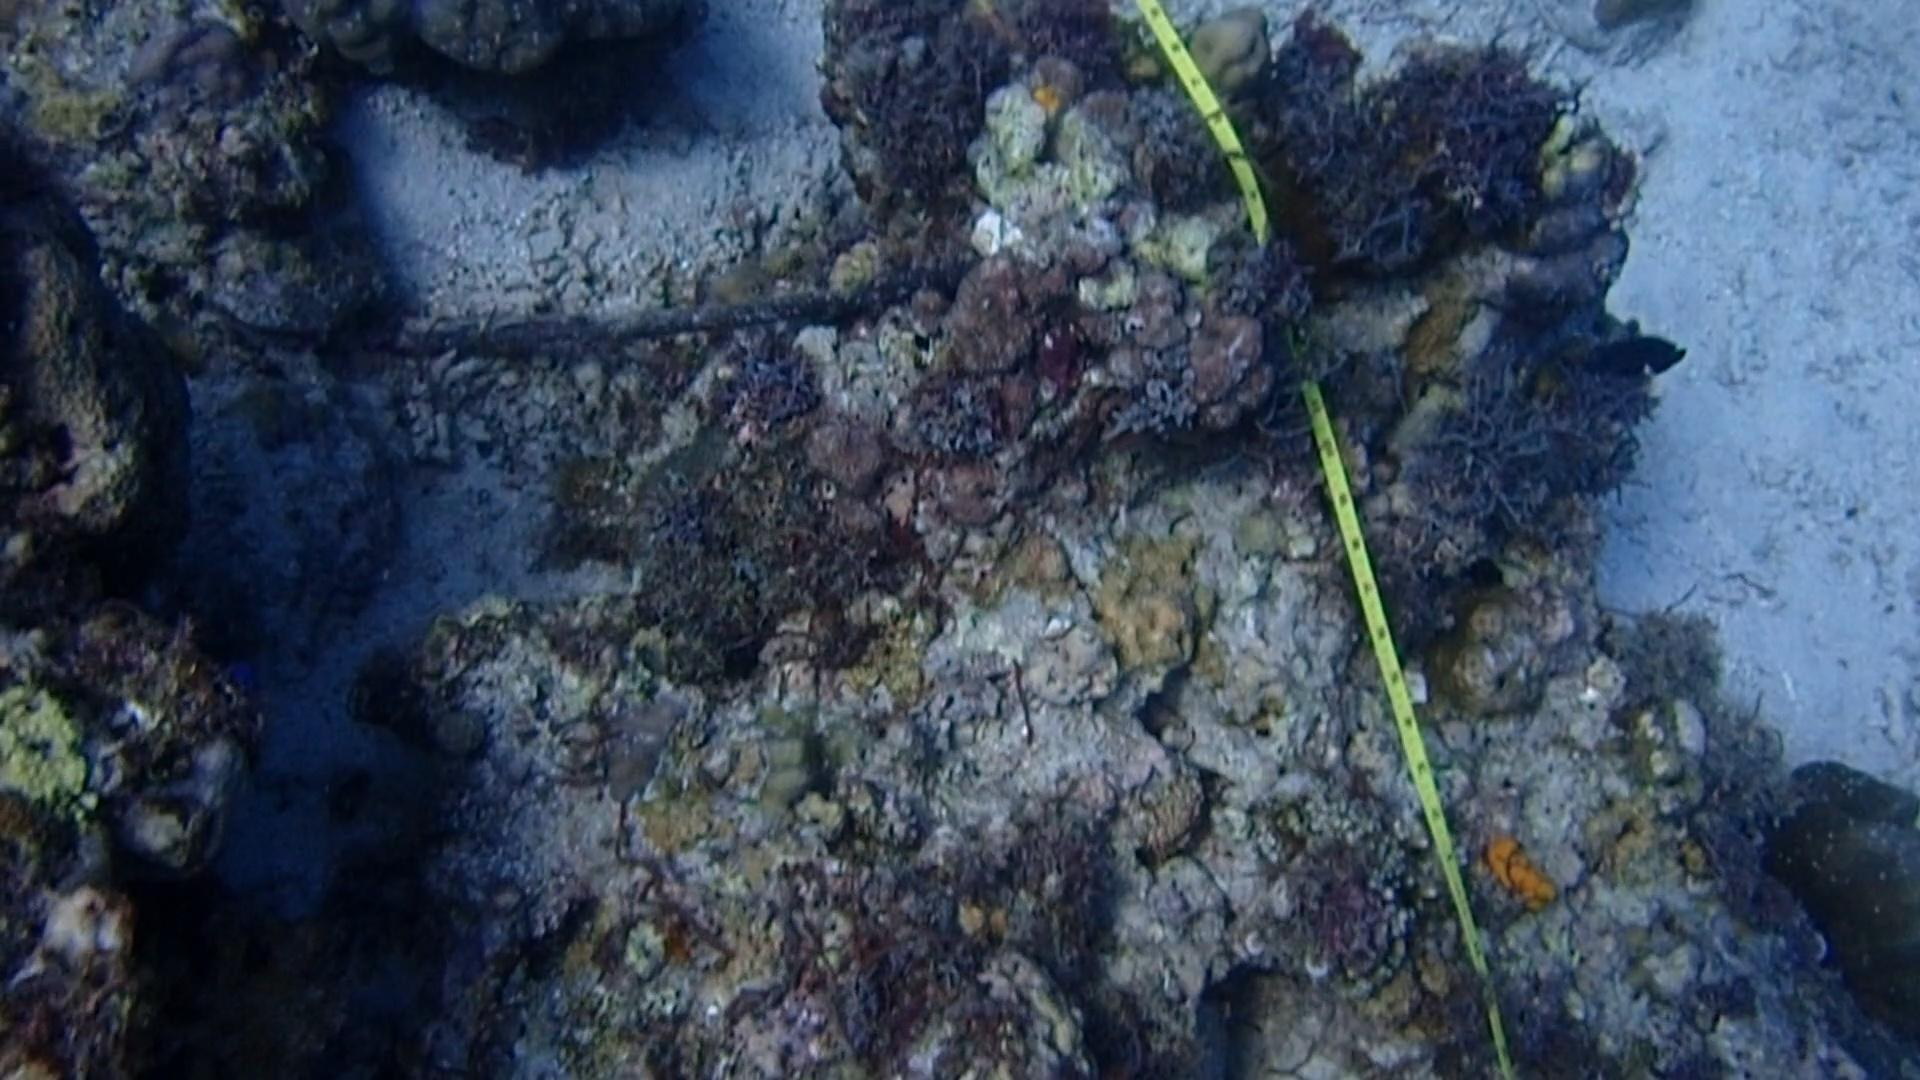Dark Fish: (1571, 320, 1692, 394)
